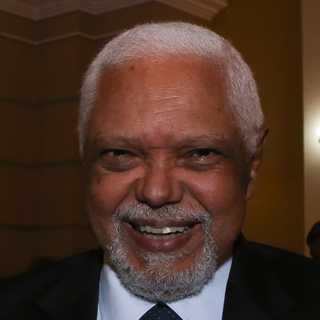eye: (97, 141, 141, 166), (175, 144, 227, 165)
